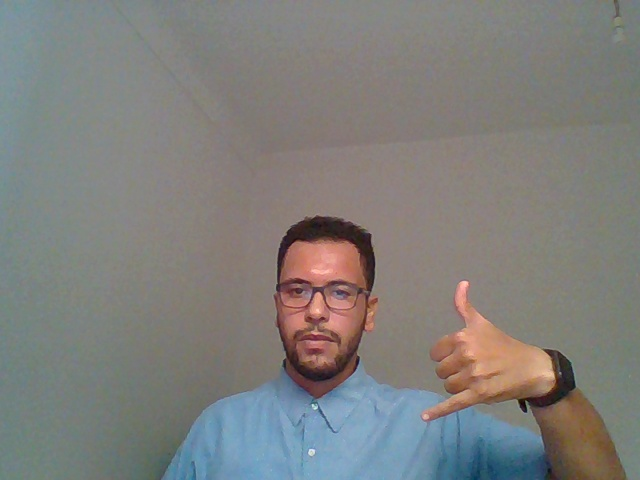callme: (385, 236, 583, 471)
